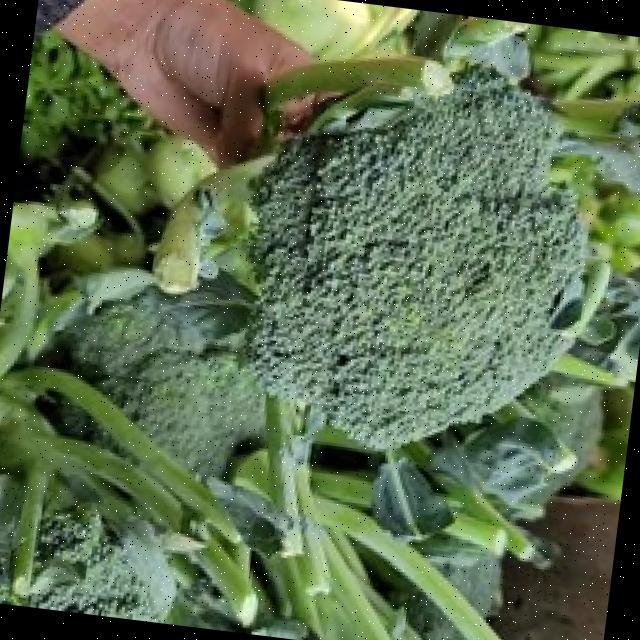Broccoli: (247, 70, 584, 447), (248, 70, 583, 445)
